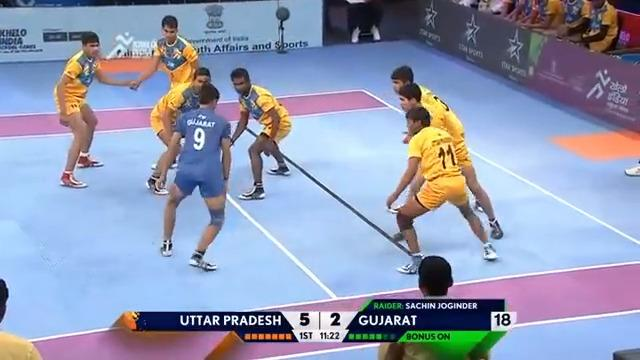Player: (385, 104, 498, 274), (377, 254, 509, 359), (52, 30, 136, 188), (128, 14, 201, 193), (228, 66, 292, 200), (146, 66, 212, 194), (129, 14, 200, 92)
Raider: (154, 82, 233, 271)
referee: (344, 0, 384, 43)
